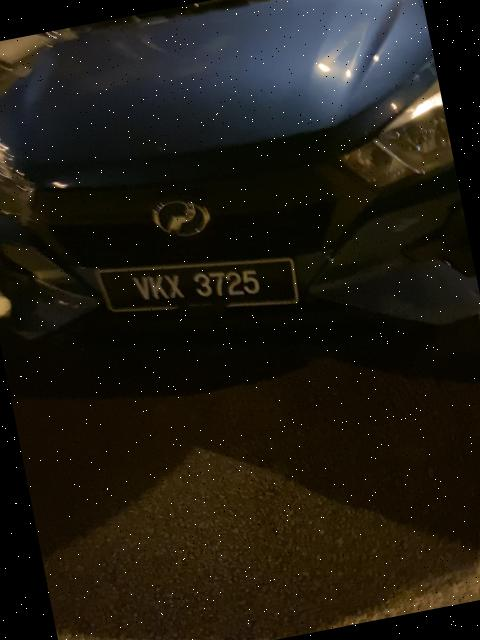License_Plate: (94, 230, 306, 352)
